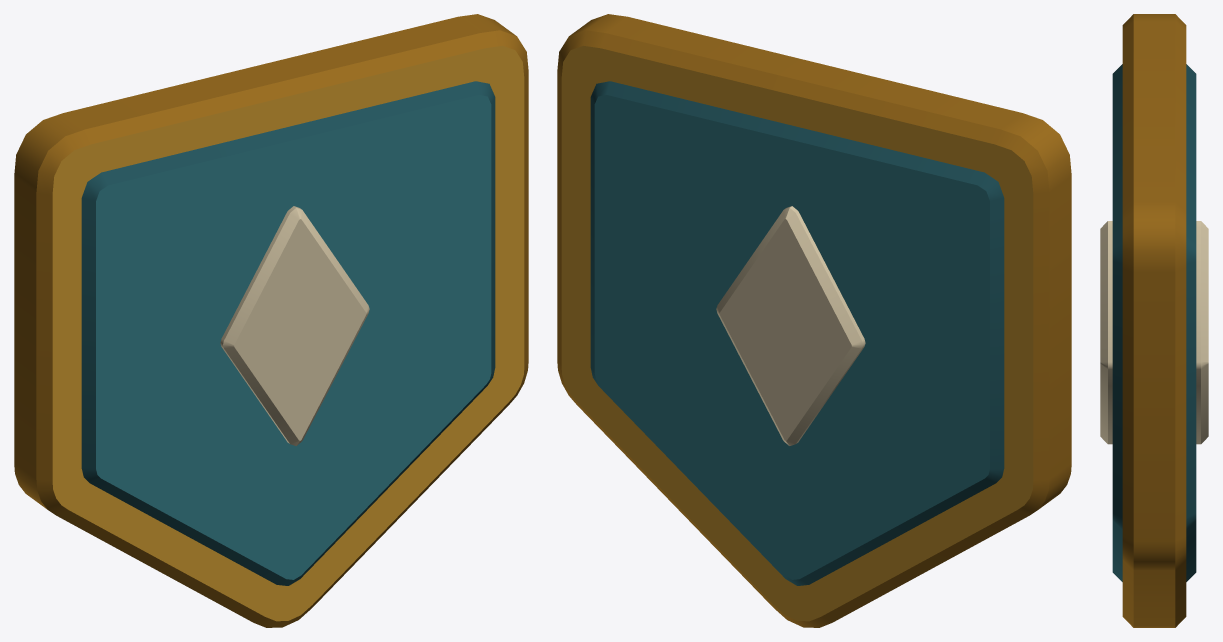
The model's file is Badge_22.glb.
3 views of the same model, side by side, from view 1: azimuth 30°, elevation 25°; view 2: azimuth 150°, elevation 25°; view 3: azimuth 270°, elevation 25° (orthographic). The views are drawn at different scales.
Parts seen in each view (by area): view 1: Badge_22; view 2: Badge_22; view 3: Badge_22.
Part boxes in pixels (left/top/right/bottom): Badge_22: left=14, top=14, right=528, bottom=627; Badge_22: left=557, top=14, right=1071, bottom=627; Badge_22: left=1100, top=14, right=1208, bottom=627.
Size of the model in its own units: 2.17 by 2.3 by 0.44.
